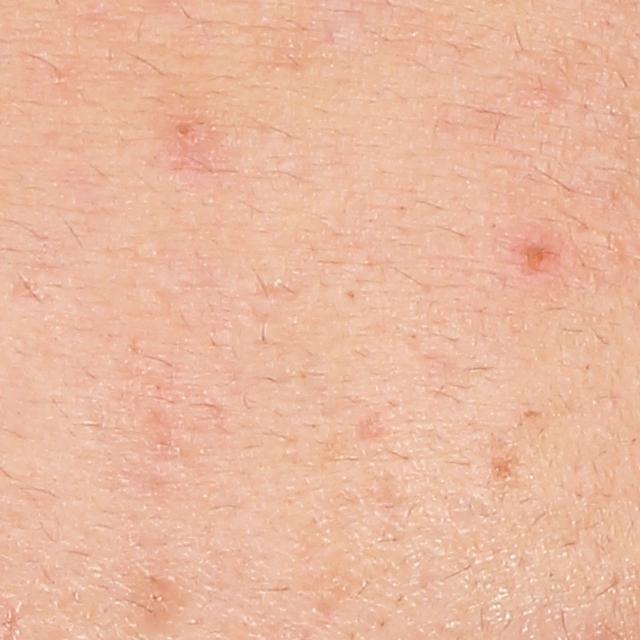atrophic_scar: (356, 419, 388, 443)
papule: (515, 236, 553, 272), (169, 119, 202, 153)
